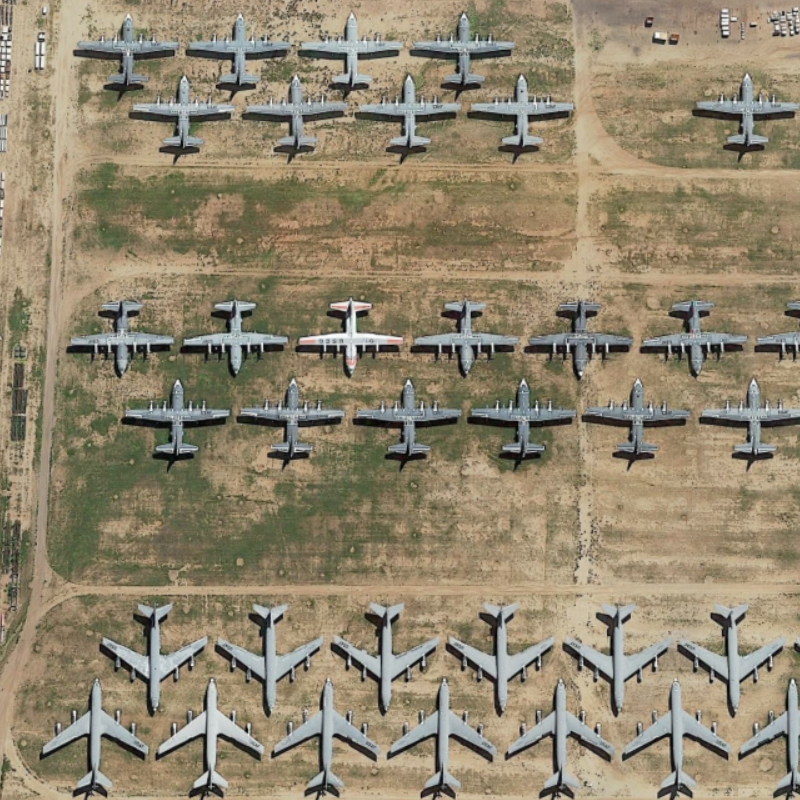A14: (675, 593, 791, 720), (562, 590, 675, 718), (270, 671, 382, 800), (214, 595, 327, 720), (387, 672, 499, 794), (38, 676, 149, 798), (96, 597, 210, 715), (507, 672, 616, 794), (329, 601, 442, 715), (442, 599, 556, 712), (154, 678, 265, 794), (624, 678, 732, 794)
A2: (411, 283, 523, 379), (527, 286, 637, 382), (351, 374, 464, 465), (467, 70, 584, 155), (236, 376, 347, 463), (185, 289, 291, 380), (123, 377, 236, 462), (692, 61, 800, 149), (470, 376, 578, 464), (245, 72, 349, 162), (298, 6, 405, 93), (582, 377, 691, 462), (410, 9, 518, 94), (62, 300, 178, 379), (297, 295, 406, 378), (642, 294, 751, 377), (131, 72, 237, 157), (699, 371, 800, 460), (185, 11, 294, 93), (70, 10, 177, 93), (355, 72, 462, 155)
